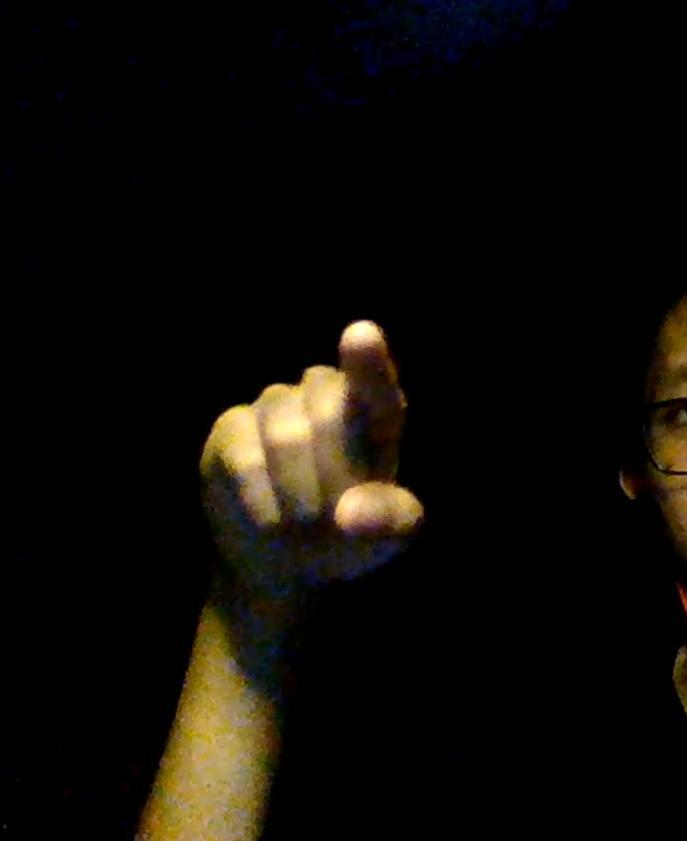z: (200, 321, 423, 584)
